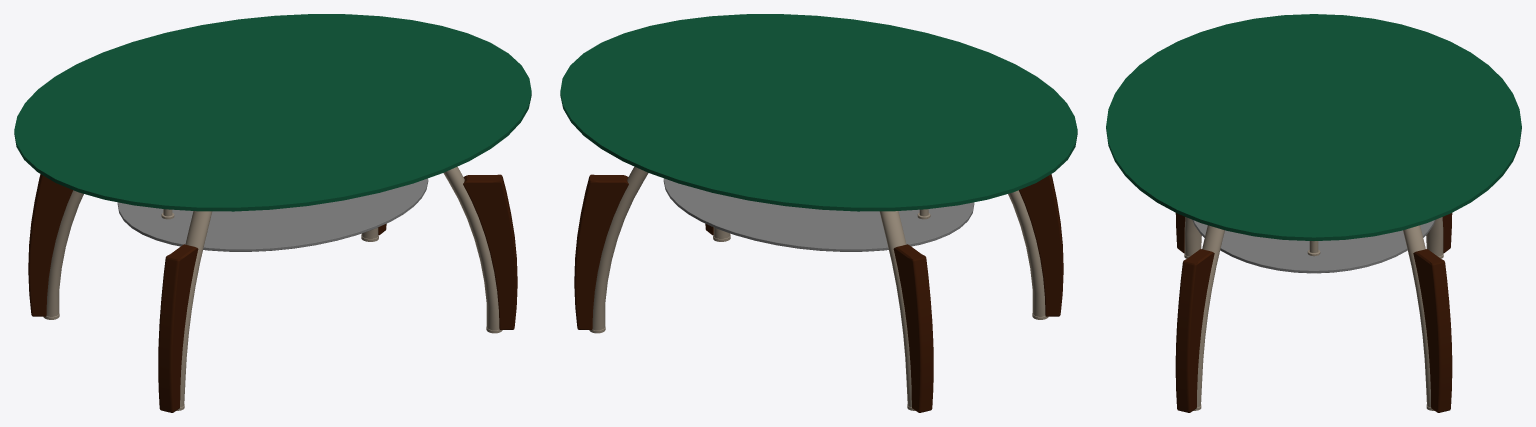
The model's file is stol3.FBX.
3 renders of one model, left to right at view 1: azimuth 30°, elevation 25°; view 2: azimuth 150°, elevation 25°; view 3: azimuth 270°, elevation 25°, orthographic. The views are drawn at different scales.
Parts seen in each view (by area): view 1: stol3, stol3_model; view 2: stol3, stol3_model; view 3: stol3, stol3_model.
Part boxes in pixels (box(x1,y1,x2,y2)): stol3: box(14, 14, 531, 412); stol3_model: box(43, 166, 502, 410); stol3: box(560, 14, 1077, 412); stol3_model: box(589, 166, 1048, 410); stol3: box(1106, 14, 1521, 412); stol3_model: box(1184, 217, 1443, 410).
Bounding box in the file's own units: 42 × 18.06 × 33.
